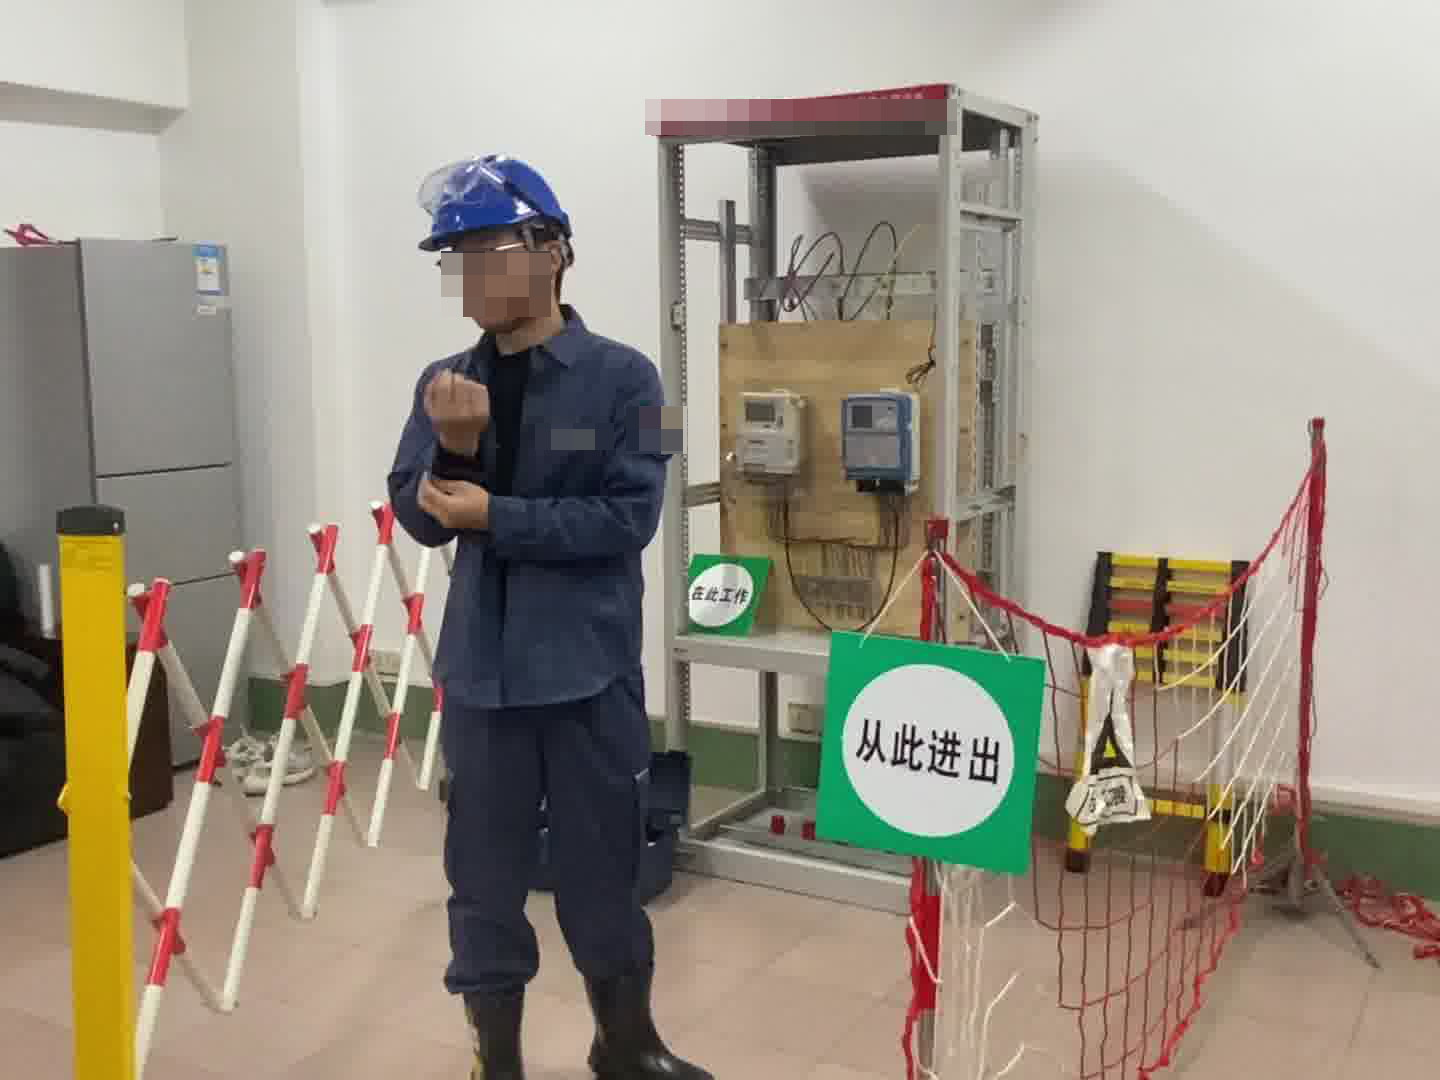downsuit: (432, 695, 668, 1005)
halt: (416, 150, 582, 344)
hand: (420, 376, 497, 455), (415, 472, 497, 539)
inear: (522, 224, 569, 307)
intosign: (830, 636, 1027, 854)
person: (378, 148, 726, 1080)
shoe: (452, 975, 709, 1080)
sleeve: (642, 408, 679, 462)
upsuit: (388, 318, 678, 707)
worksign: (688, 550, 762, 638)
wrongsuit: (472, 351, 548, 708)
